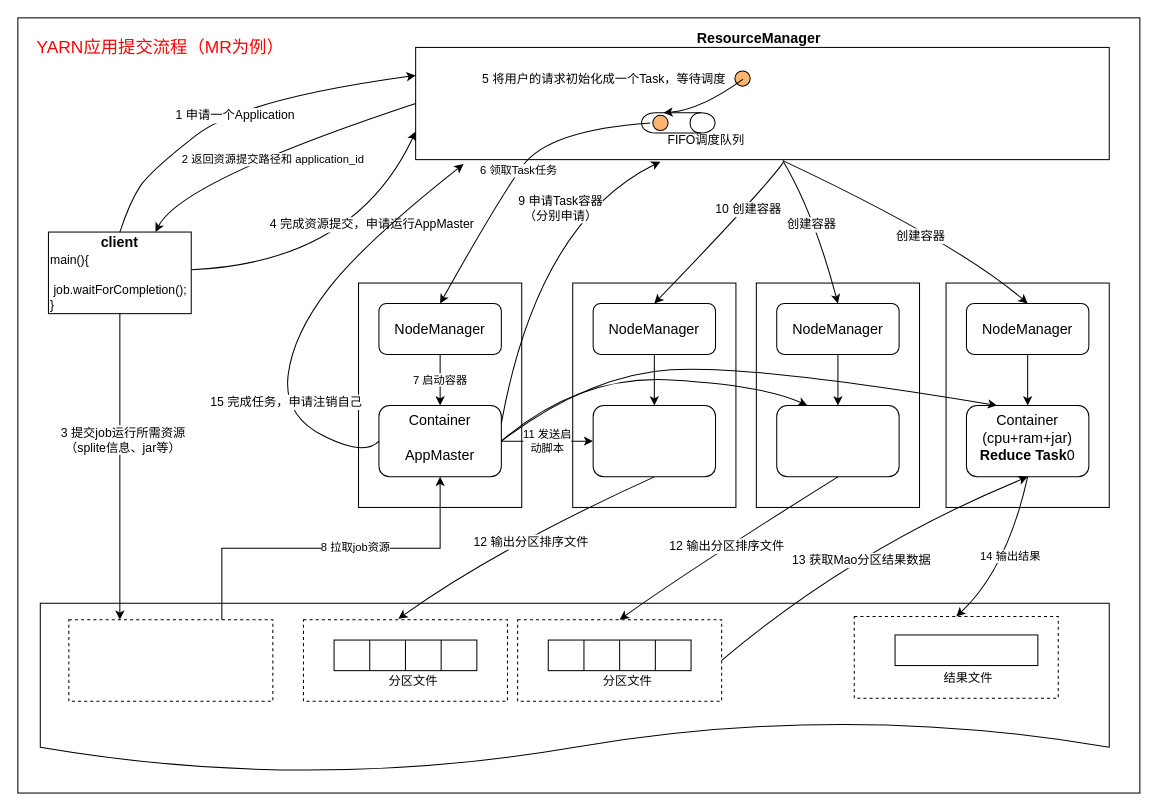
The diagram is 1158 pixels wide and 811 high, and some of its shapes have lost their labels. Here are the shapes that lost their labels. From the top down, the centre of each, then its label:
(x=654, y=440): Container (cpu+ram+jar) MapTask 0
(x=837, y=440): Container (cpu+ram+jar) MapTask 1
(x=170, y=660): hdfs://.../.staging/application_id Job.split Job.xml wordCount.jar
